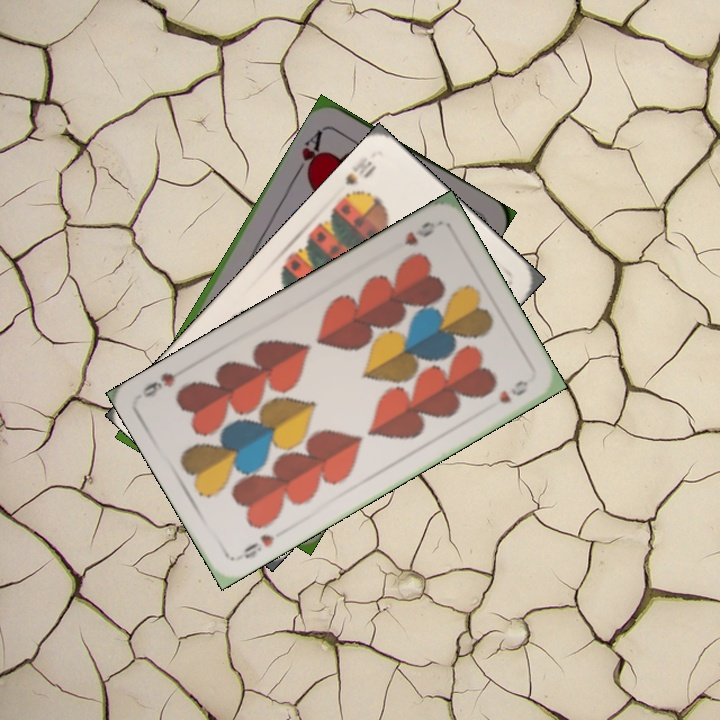H9: (400, 217, 438, 249), (239, 530, 277, 562)
HA: (291, 124, 327, 182)
S10: (337, 152, 379, 204)
